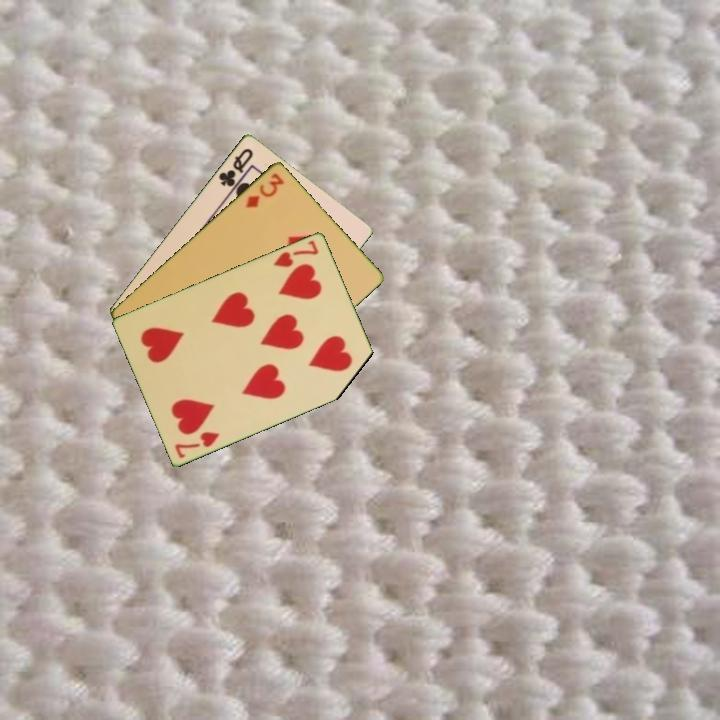3d: (242, 169, 287, 211)
7h: (270, 236, 322, 270), (171, 427, 222, 461)
Qc: (215, 144, 256, 189)
